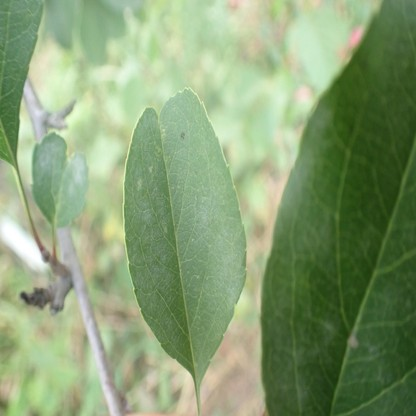powdery_mildew: (123, 86, 246, 389), (263, 107, 333, 415), (31, 130, 91, 234)
